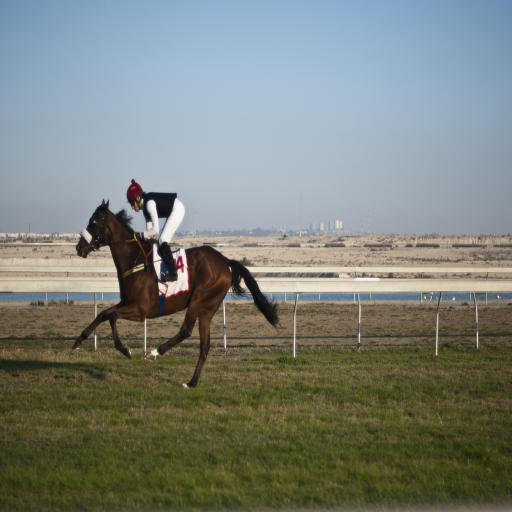horse: (70, 197, 286, 388)
